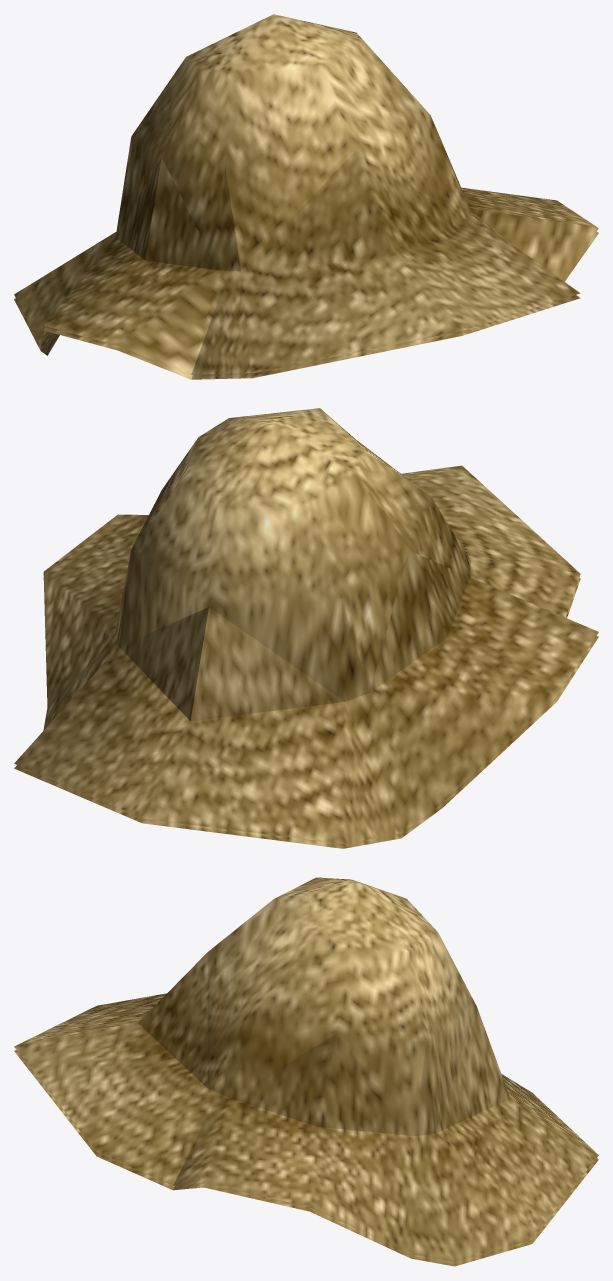
The model's file is hele_straw_hat.dae.
The picture shows the model from 3 angles, top to bottom: view 1: azimuth 30°, elevation 25°; view 2: azimuth 150°, elevation 25°; view 3: azimuth 270°, elevation 25°; orthographic projection. The views are drawn at different scales.
Visible parts, largest first — view 1: hellenes_straw_hat001; view 2: hellenes_straw_hat001; view 3: hellenes_straw_hat001.
Boxes of the visible parts, x1=… form: hellenes_straw_hat001: x1=14, y1=14, x2=598, y2=379; hellenes_straw_hat001: x1=14, y1=408, x2=598, y2=848; hellenes_straw_hat001: x1=14, y1=877, x2=598, y2=1266.
Bounding box in the file's own units: 0.9069 × 0.5595 × 0.979.
